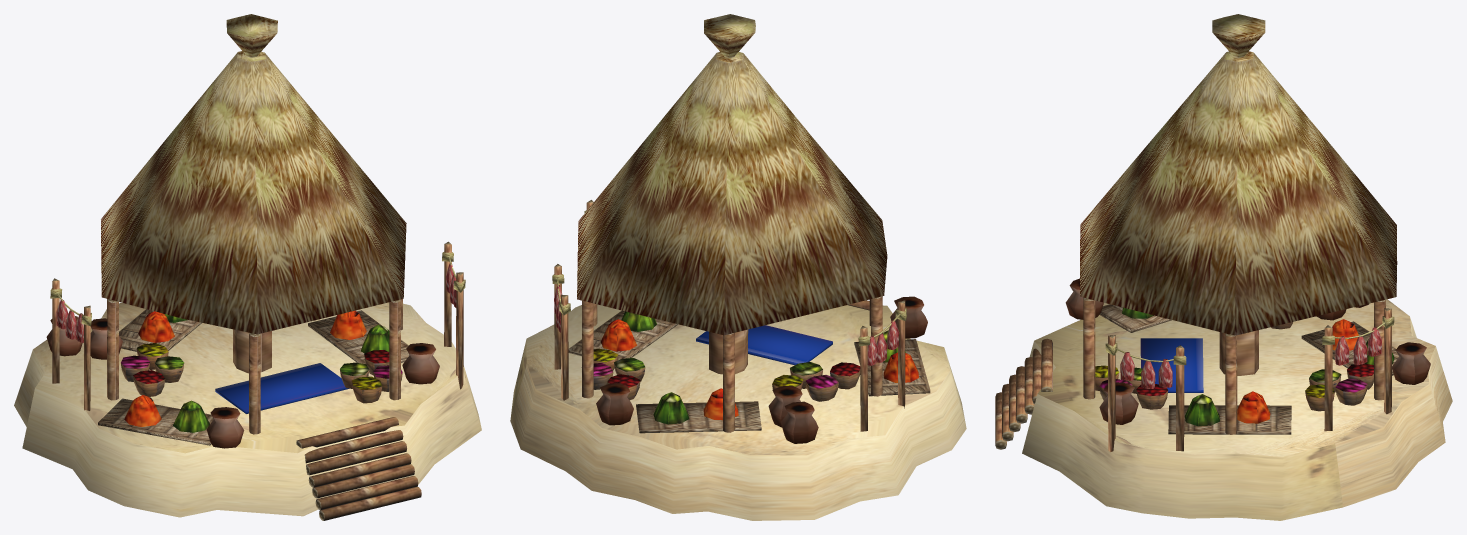
File: farmstead.dae
3 renders of one model, left to right at view 1: azimuth 30°, elevation 25°; view 2: azimuth 150°, elevation 25°; view 3: azimuth 270°, elevation 25°, orthographic.
Parts seen in each view (by area): view 1: farmstead; view 2: farmstead; view 3: farmstead.
Boxes of the visible parts, x1,y1,x2,y2 form: farmstead: (14,14,481,520); farmstead: (510,14,966,520); farmstead: (995,14,1452,520).
Bounding box in the file's own units: 15.92 × 15.92 × 15.32.
